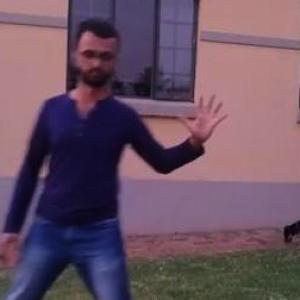follow_hand: (178, 88, 234, 143)
